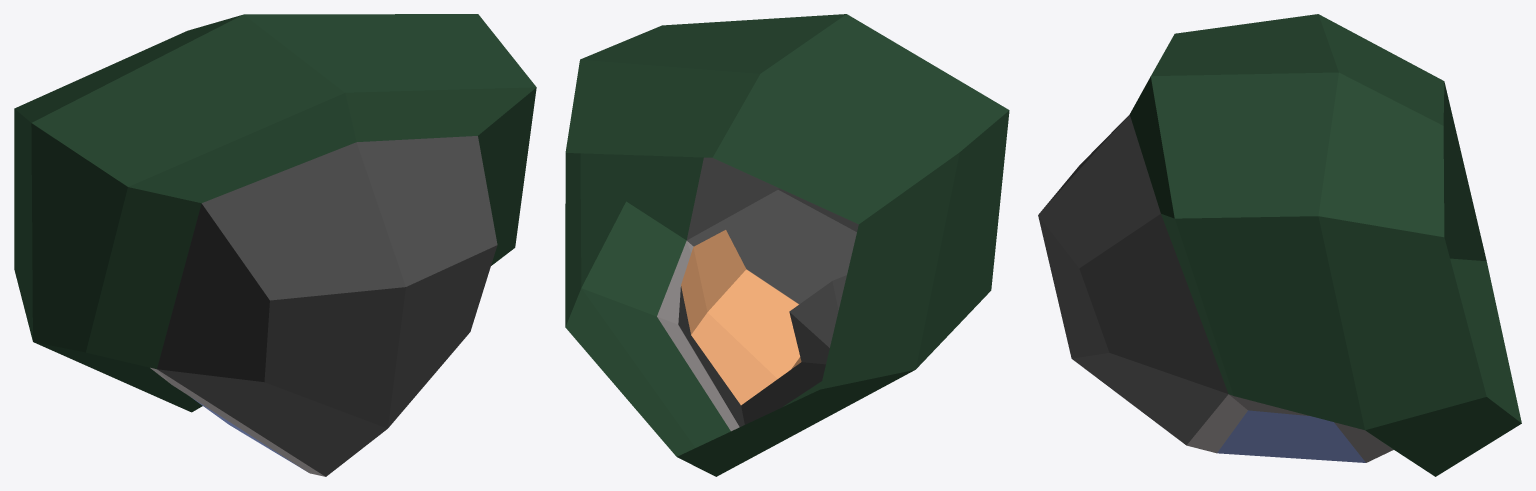
File: head_EOD.fbx
3 renders of one model, left to right at view 1: azimuth 30°, elevation 25°; view 2: azimuth 150°, elevation 25°; view 3: azimuth 270°, elevation 25°, orthographic. The views are drawn at different scales.
Visible parts, largest first — view 1: man-EOD; view 2: man-EOD; view 3: man-EOD.
Boxes of the visible parts, x1,y1,x2,y2 form: man-EOD: (14, 14, 536, 476); man-EOD: (565, 14, 1009, 476); man-EOD: (1038, 14, 1521, 476).
Bounding box in the file's own units: 395 × 369 × 400.
